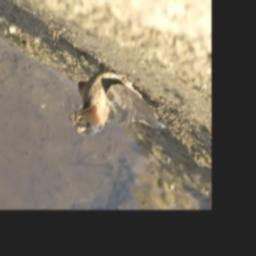Swallow: (71, 68, 162, 137)
